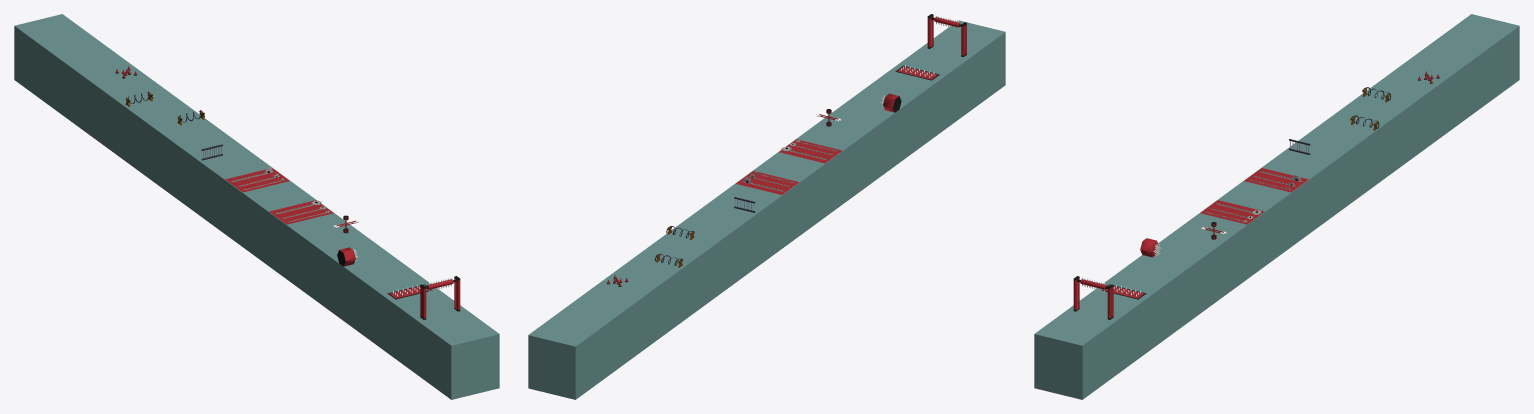
Rendered from Parkur_Modelleme_7.fbx.
The picture shows the model from 3 angles, left to right: view 1: azimuth 30°, elevation 25°; view 2: azimuth 150°, elevation 25°; view 3: azimuth 330°, elevation 25°; orthographic projection.
Parts seen in each view (by area): view 1: Parkur; view 2: Parkur; view 3: Parkur.
Boxes of the visible parts, x1,y1,x2,y2 form: Parkur: (14,14,499,399); Parkur: (528,20,1005,399); Parkur: (1034,14,1519,399).
Size of the model in its own units: 414 by 705 by 6248.
